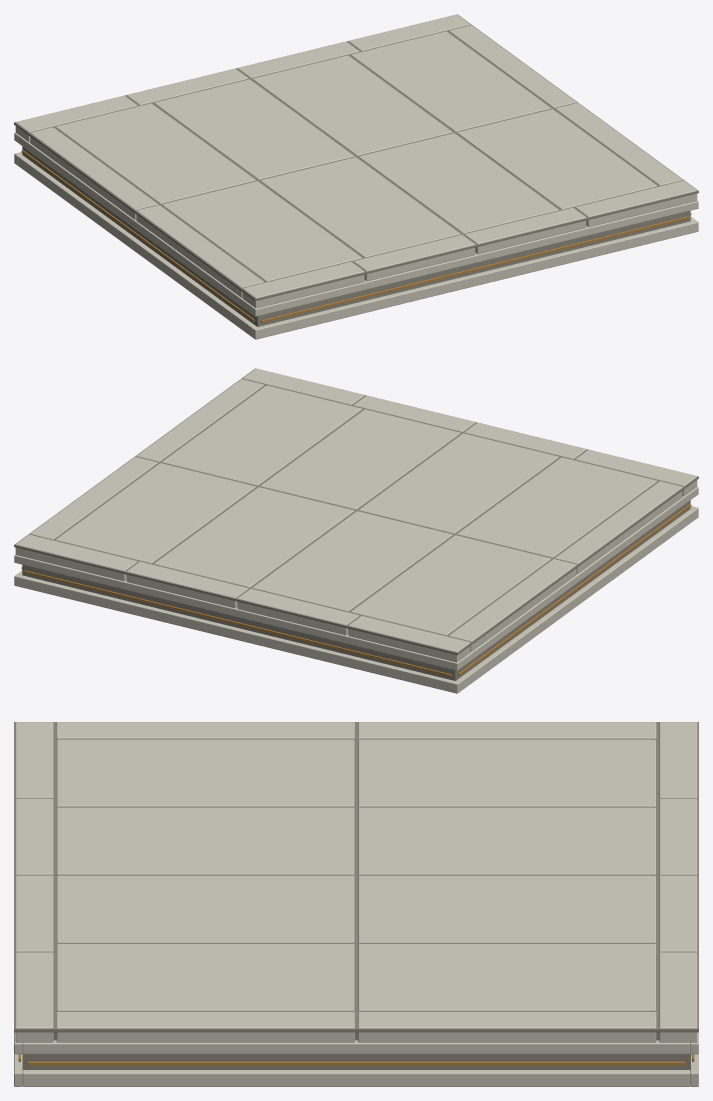
File: SM_Aurelion_KIT_Z06RefugeRamp.fbx
The picture shows the model from 3 angles, top to bottom: view 1: azimuth 30°, elevation 25°; view 2: azimuth 150°, elevation 25°; view 3: azimuth 270°, elevation 25°; orthographic projection. The views are drawn at different scales.
Parts seen in each view (by area): view 1: SM_Aurelion_KIT_Z06RefugeRamp; view 2: SM_Aurelion_KIT_Z06RefugeRamp; view 3: SM_Aurelion_KIT_Z06RefugeRamp.
Boxes of the visible parts, bbox=[...] form: SM_Aurelion_KIT_Z06RefugeRamp: bbox=[14, 14, 698, 339]; SM_Aurelion_KIT_Z06RefugeRamp: bbox=[14, 368, 698, 693]; SM_Aurelion_KIT_Z06RefugeRamp: bbox=[14, 722, 698, 1086].
Size of the model in its own units: 424 by 400 by 40.
